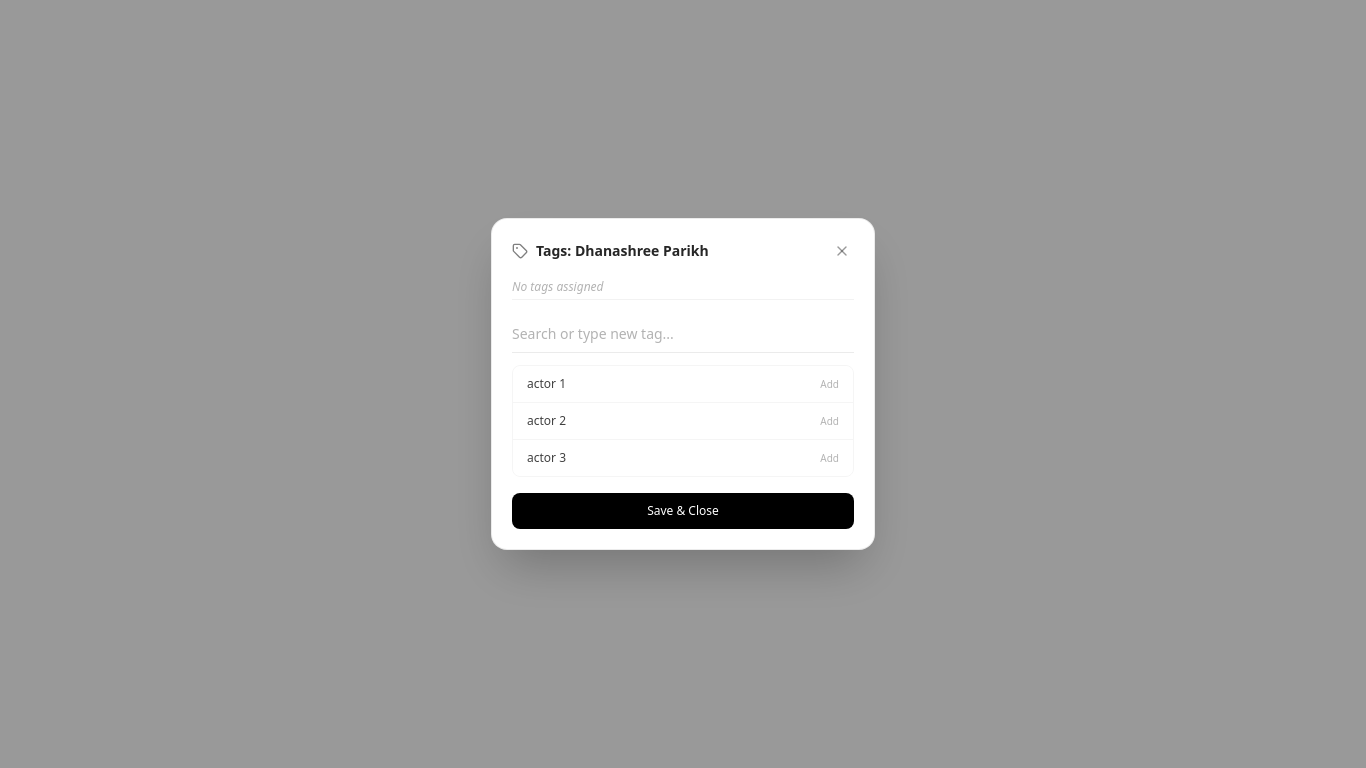
TagPopover — multi-select tag assignment › stages multiple existing tags without an API call per click
Click the button with test id "tag-option-t1".
click(547, 384)  # box [513, 366, 853, 402]
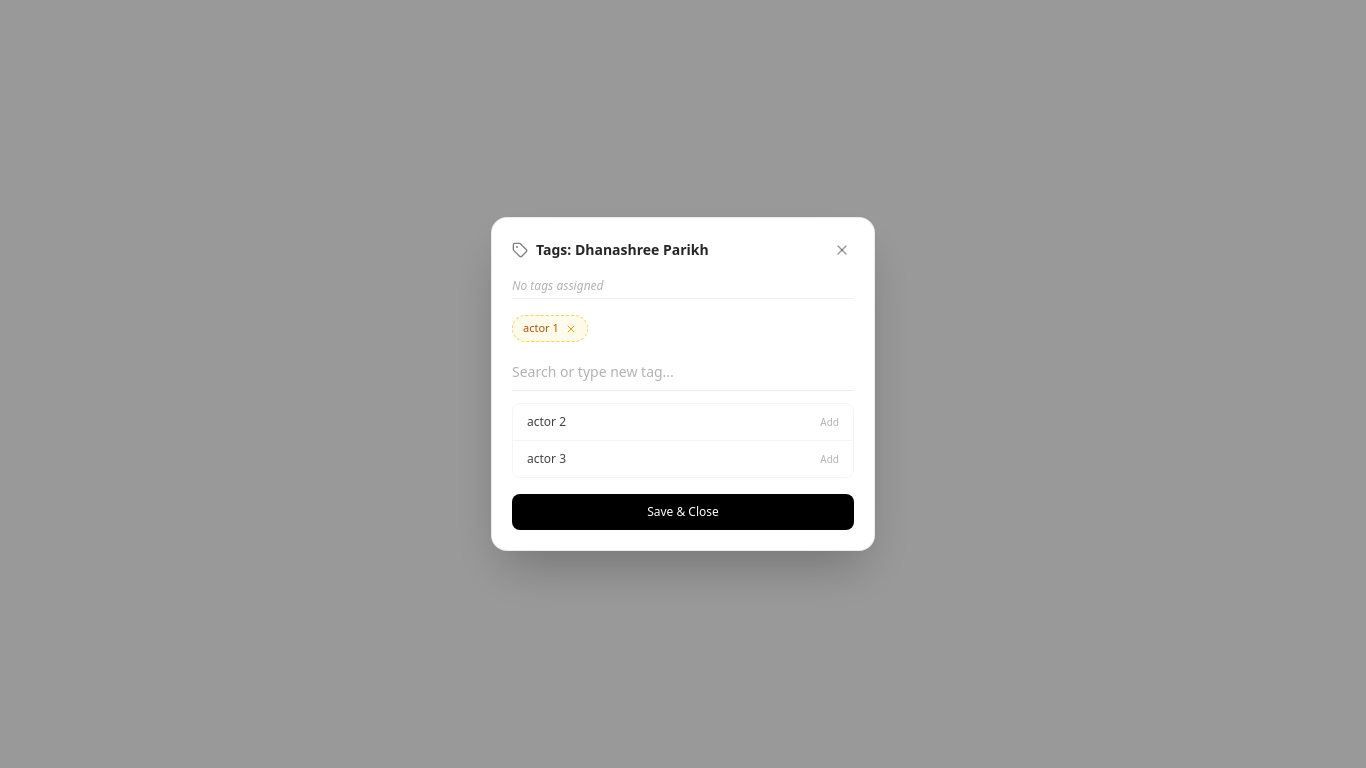
Click the button with test id "tag-option-t2".
click(547, 421)  # box [513, 404, 853, 440]
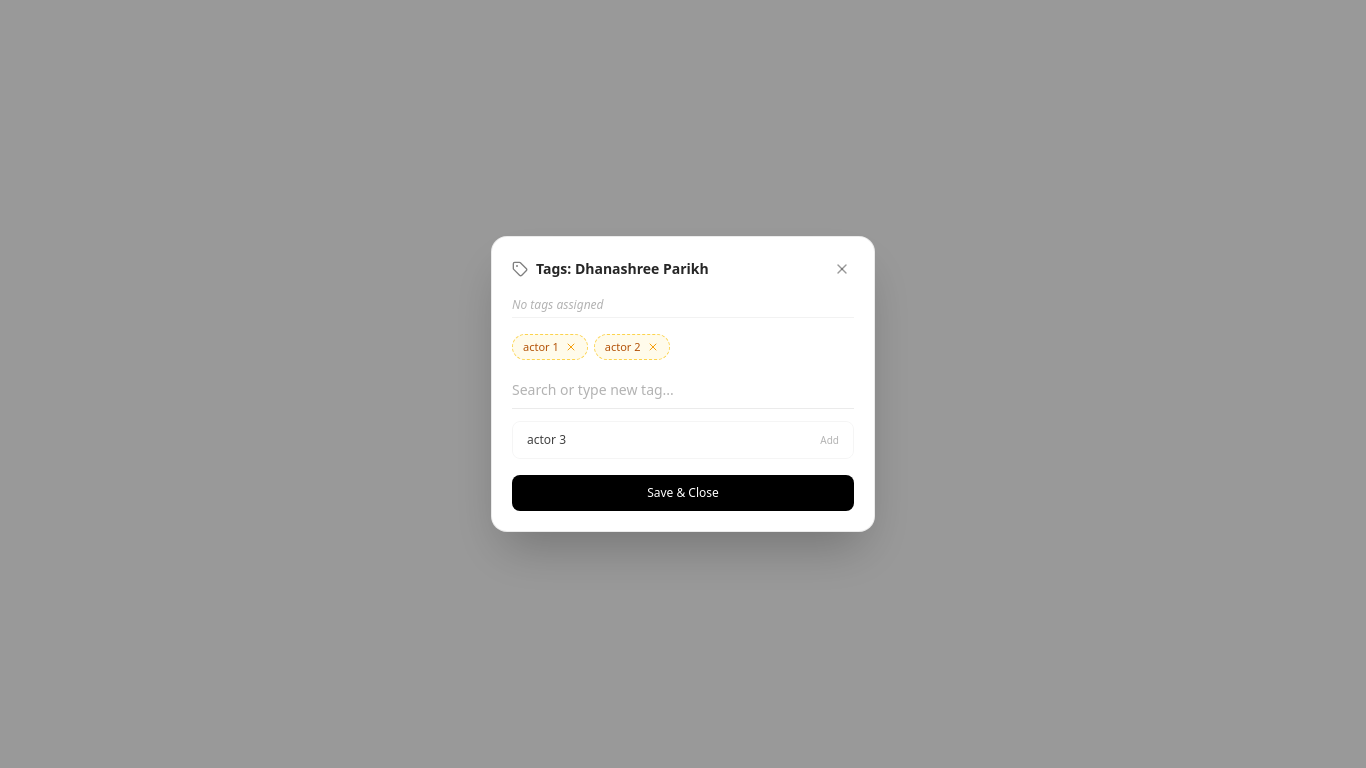
Expected: the element with test id "pending-tag-t1" is shown, [512, 334, 588, 360]
Expected: the button with test id "tag-option-t2" is gone
